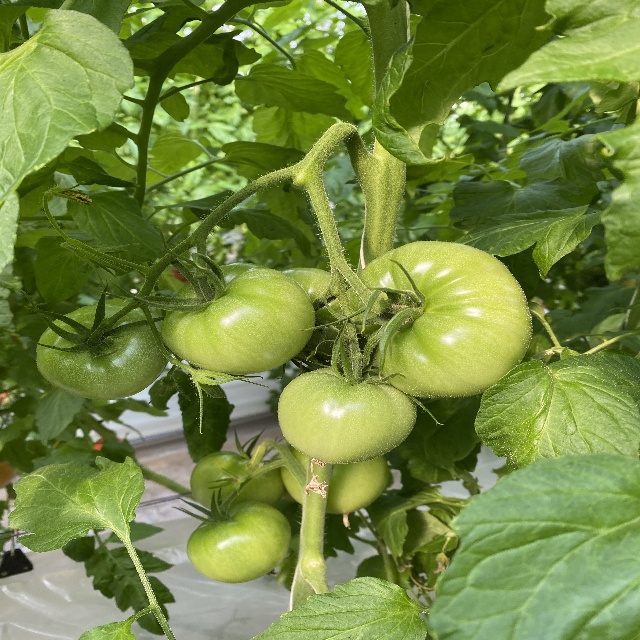b_green: (348, 240, 533, 398), (160, 262, 315, 375), (277, 368, 418, 464), (35, 303, 169, 401), (186, 501, 291, 584), (281, 443, 389, 514), (282, 267, 355, 362), (189, 452, 286, 511)
